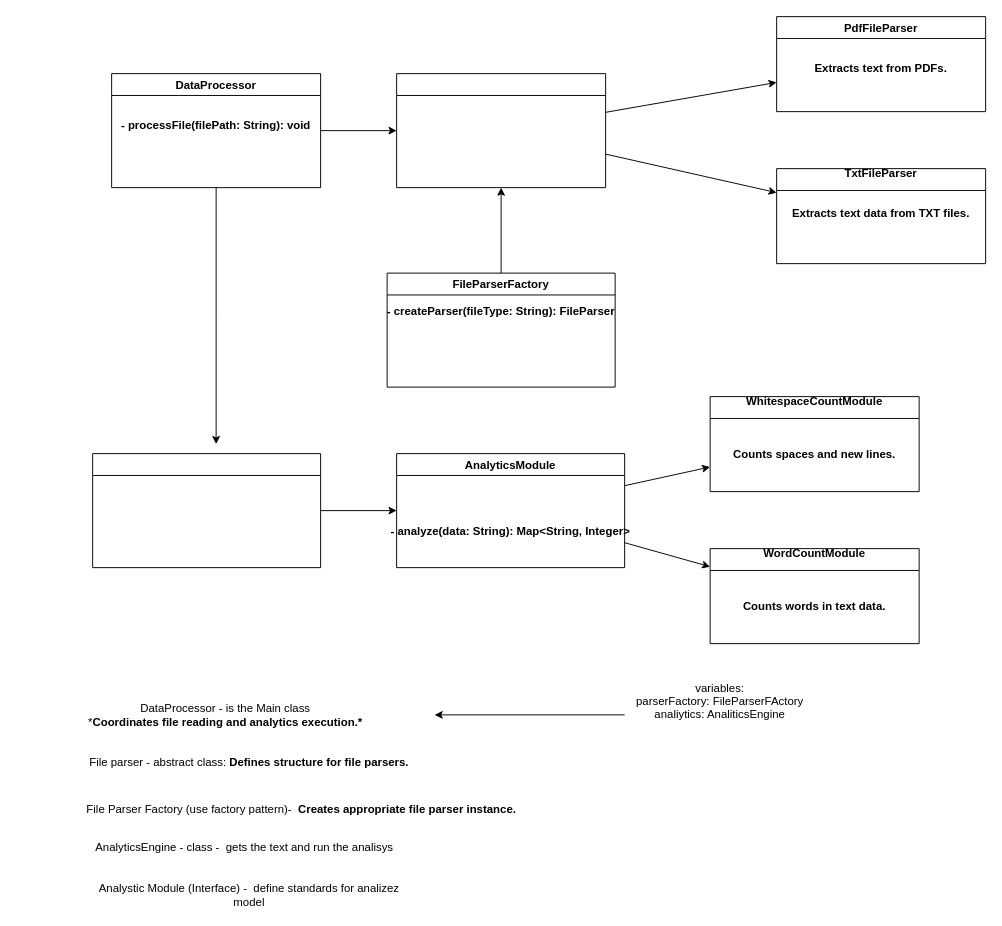
Some shapes in this 1002 by 926 pixel diagram are drawn without their labels. Each missing label, with the box of its shape:
AnalyticsEngine - runAnalytics(data: String): void: (92, 453, 321, 568)
FileParser - parse(filePath: String): String: (396, 73, 606, 188)
